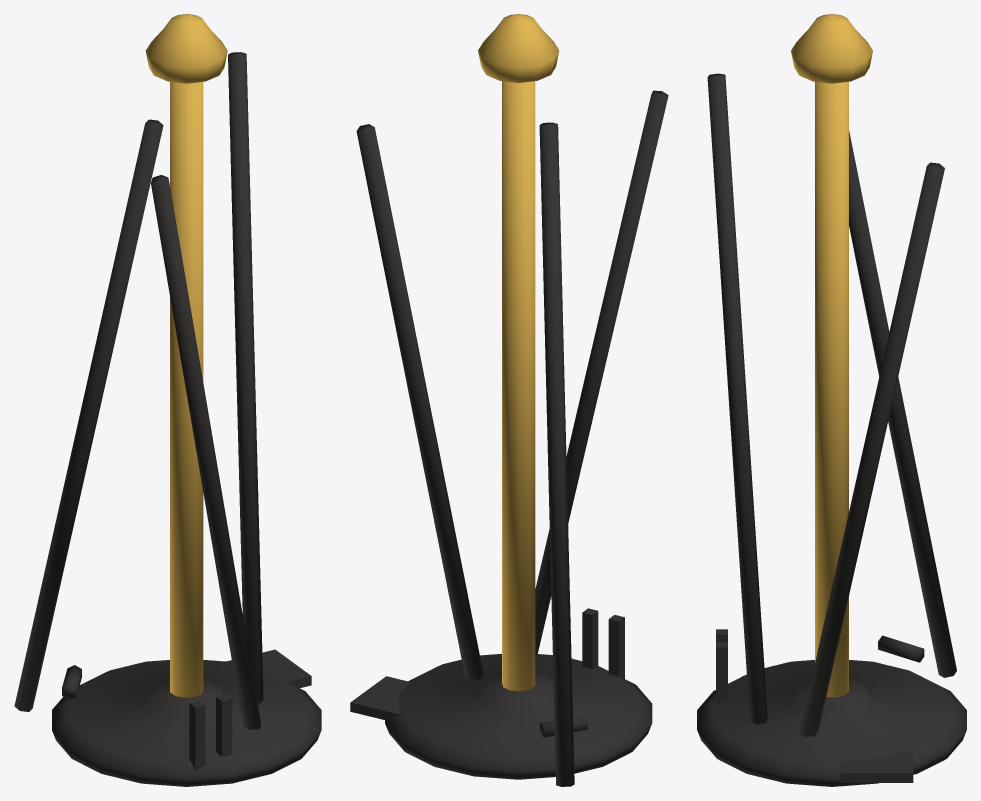
Rendered from fire-irons.glb.
3 renders of one model, left to right at view 1: azimuth 30°, elevation 25°; view 2: azimuth 150°, elevation 25°; view 3: azimuth 270°, elevation 25°, orthographic.
Visible parts, largest first — view 1: FireIrons; view 2: FireIrons; view 3: FireIrons.
Part boxes in pixels (box(x1,y1,x2,y2)): FireIrons: box(14, 14, 321, 786); FireIrons: box(350, 14, 668, 786); FireIrons: box(697, 14, 966, 786).
Bounding box in the file's own units: 0.3343 × 0.923 × 0.3151.
